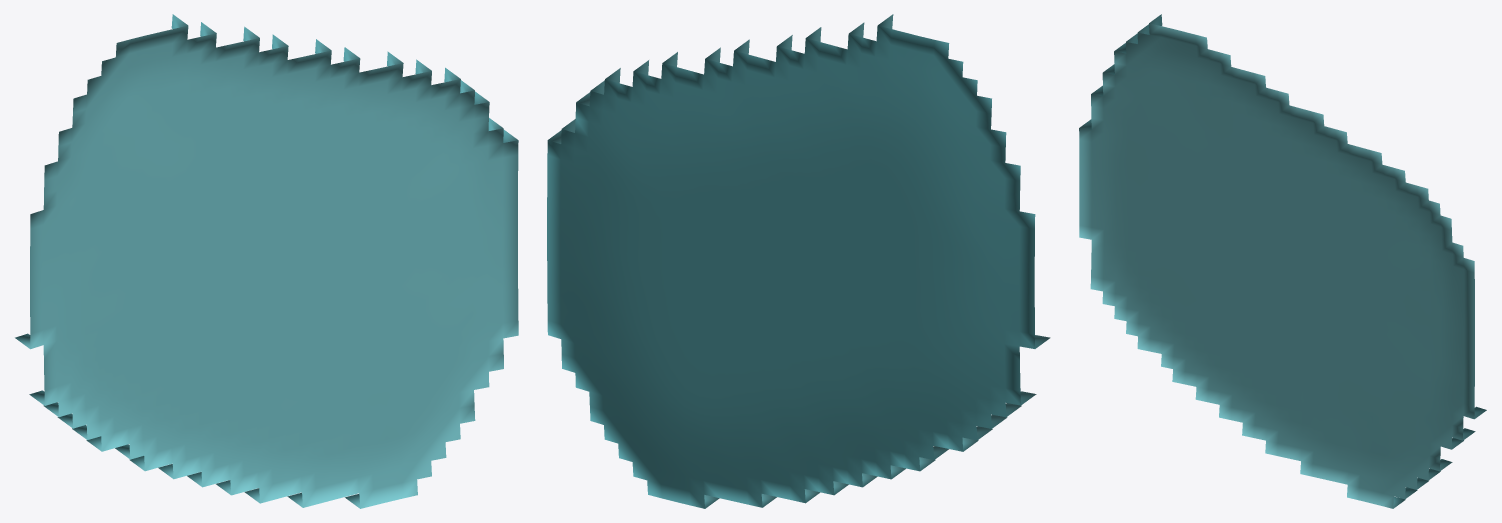
The model's file is PAIR-OFFLOAD-2ND-3RD_RIGHT_addon.glb.
The picture shows the model from 3 angles, left to right: view 1: azimuth 30°, elevation 25°; view 2: azimuth 150°, elevation 25°; view 3: azimuth 330°, elevation 25°; orthographic projection. The views are drawn at different scales.
Parts seen in each view (by area): view 1: geometry_0; view 2: geometry_0; view 3: geometry_0.
Part boxes in pixels (x1,y1,x2,y2): geometry_0: [15, 14, 518, 508]; geometry_0: [547, 14, 1050, 508]; geometry_0: [1079, 14, 1486, 508].
Bounding box in the file's own units: 34 × 35 × 2.66.
